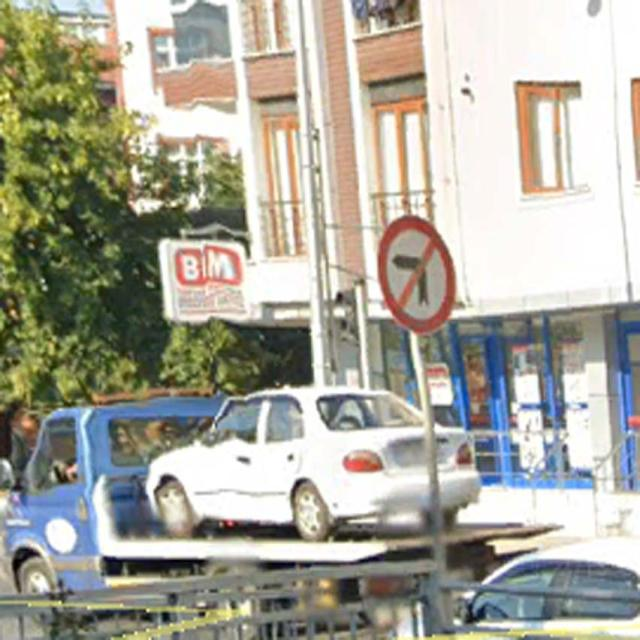soladonulmez: (377, 216, 456, 334)
